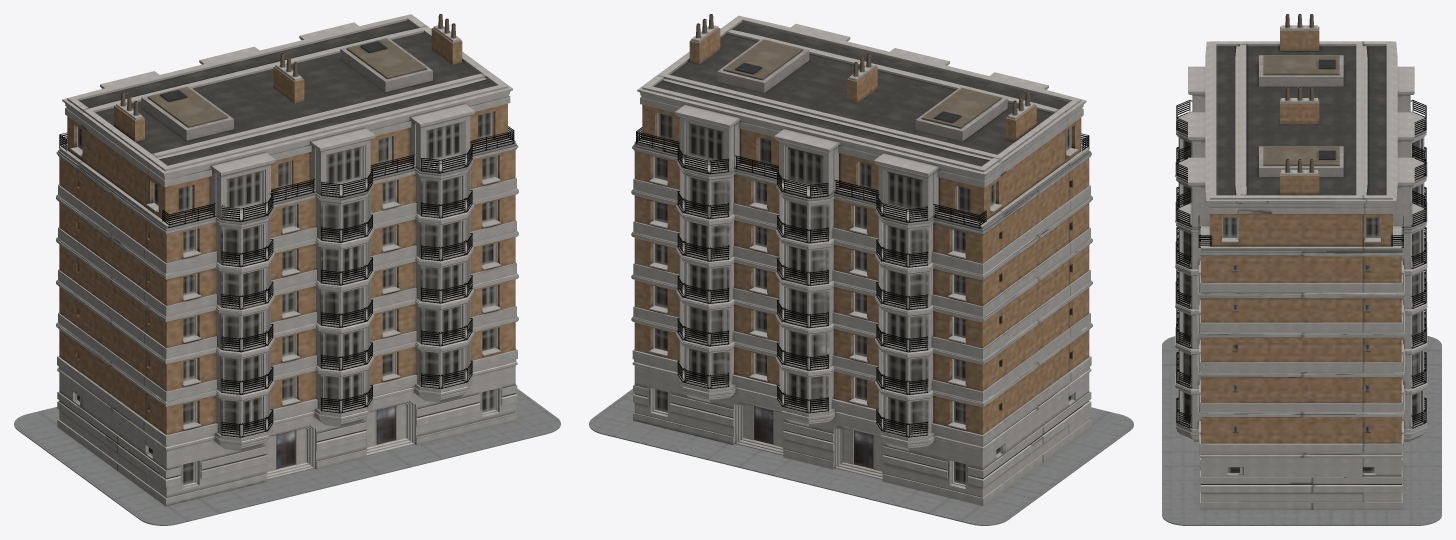
Rendered from bld22_07.glb.
The picture shows the model from 3 angles, left to right: view 1: azimuth 30°, elevation 25°; view 2: azimuth 150°, elevation 25°; view 3: azimuth 270°, elevation 25°; orthographic projection. The views are drawn at different scales.
Visible parts, largest first — view 1: bld22_07; view 2: bld22_07; view 3: bld22_07.
Part boxes in pixels (bbox=[...]): bld22_07: bbox=[14, 14, 560, 525]; bld22_07: bbox=[589, 14, 1133, 525]; bld22_07: bbox=[1162, 14, 1441, 525].
Size of the model in its own units: 56.5 by 47.56 by 35.13.
Materials: 1 (1 with a texture image).
